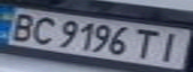1: (75, 20, 96, 52)
6: (109, 25, 136, 57)
9: (54, 17, 81, 51), (90, 21, 115, 55)
B: (0, 10, 42, 43)
C: (24, 15, 60, 46)
I: (151, 29, 190, 63)
T: (130, 27, 166, 61)
